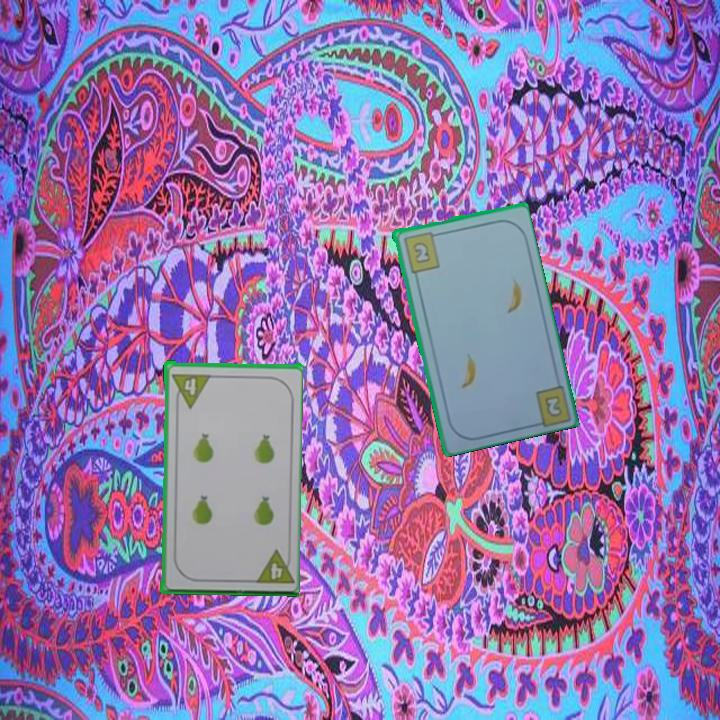2b: (400, 228, 442, 275), (541, 391, 565, 420)
4p: (250, 546, 294, 587), (168, 369, 212, 409)
